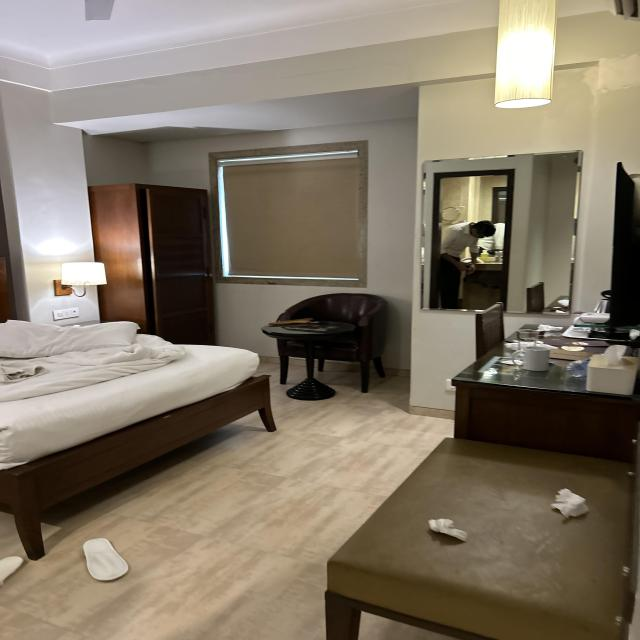mess: (0, 301, 286, 557), (355, 406, 640, 639), (440, 260, 640, 424)
